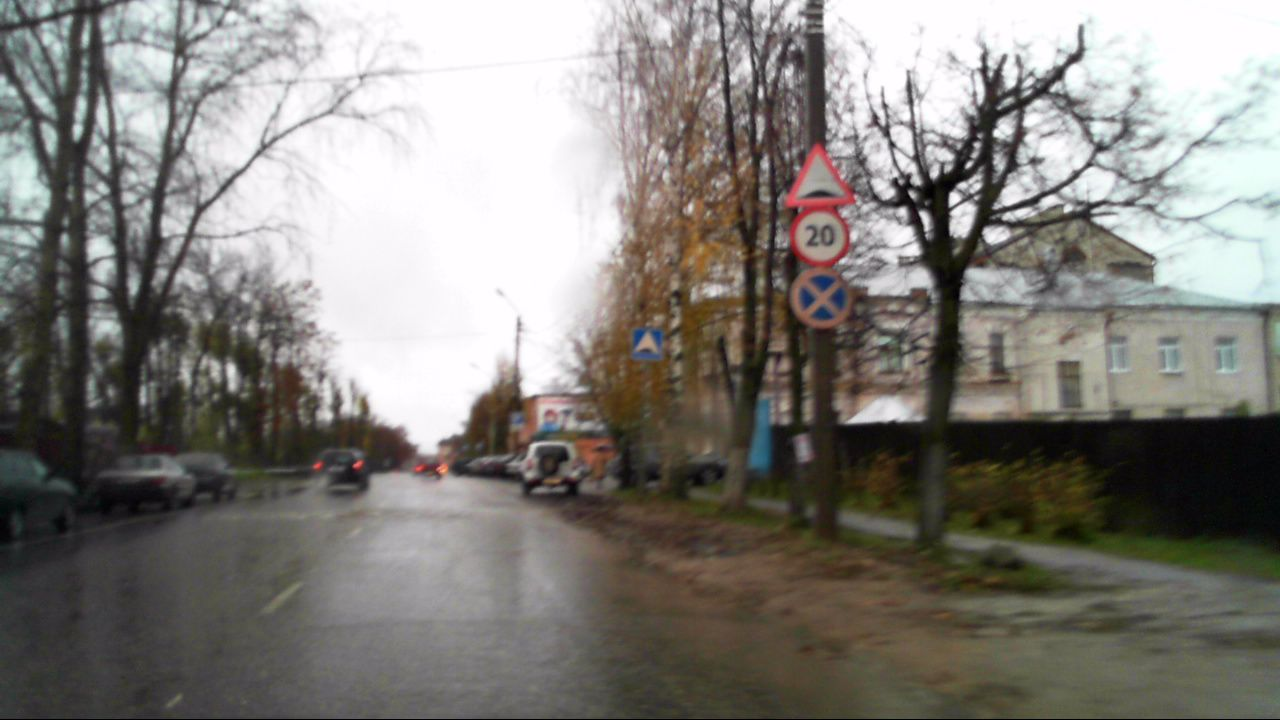No Parking: (791, 267, 853, 329)
